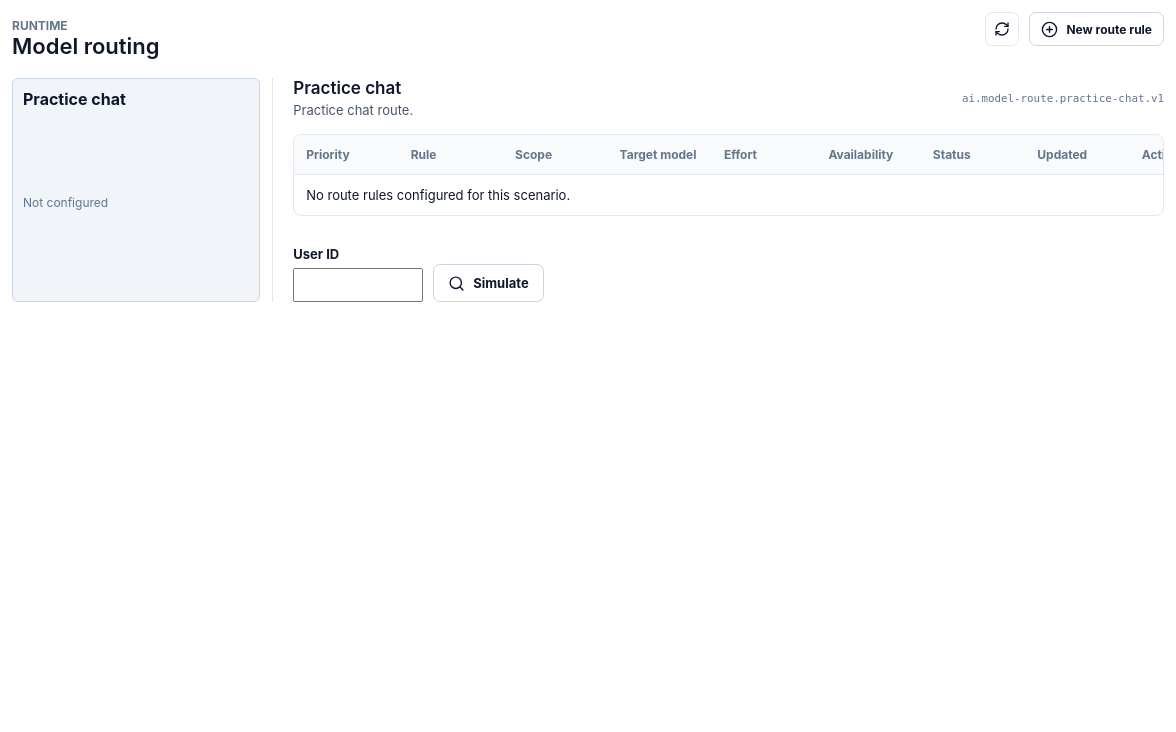
Scenario: AiModelRoutingPanel › resets an effort that is unsupported after changing the target model
Expected: the heading "Practice chat" is shown, [293, 78, 413, 98]
Click the button "New route rule" at (1097, 29), box [1029, 12, 1164, 46]
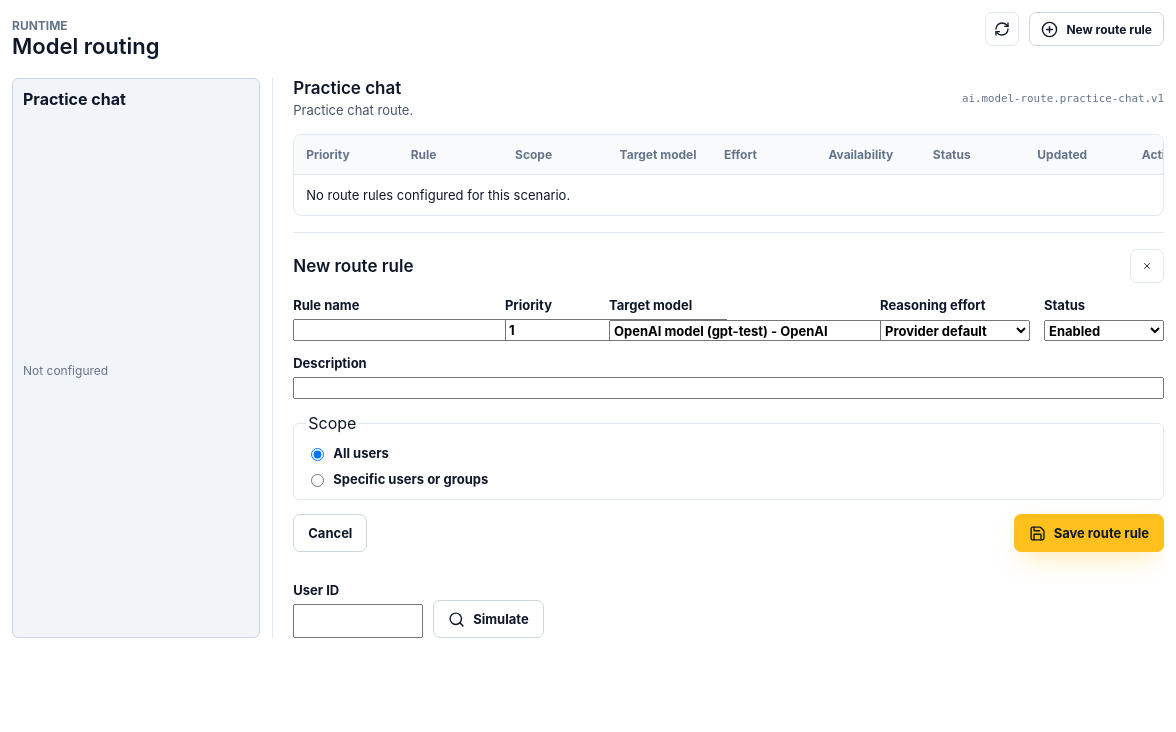
Select "high" in the dropdown labelled "Reasoning effort" at (955, 331), box [880, 320, 1030, 341]
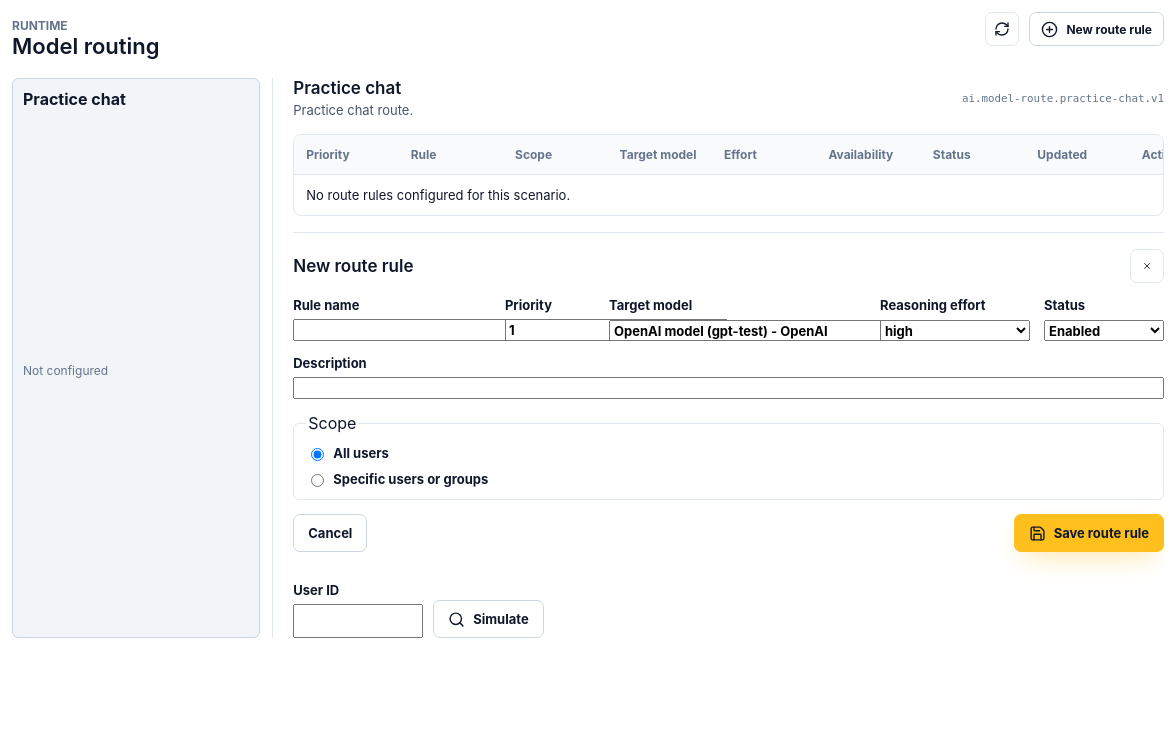
Select "DeepSeek model (deepseek-test) - DeepSeek" in the dropdown labelled "Target model" at (764, 331), box [609, 320, 920, 341]
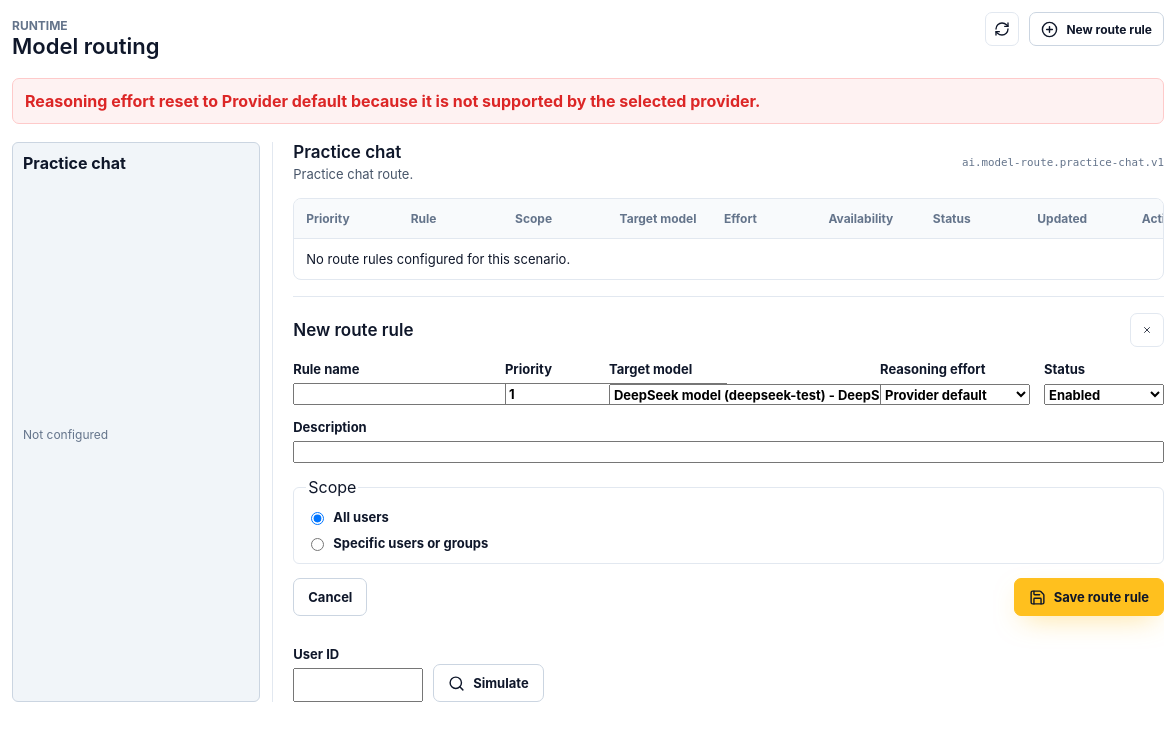
Expected: the message shows "Reasoning effort reset to Provider default", [25, 91, 760, 111]
